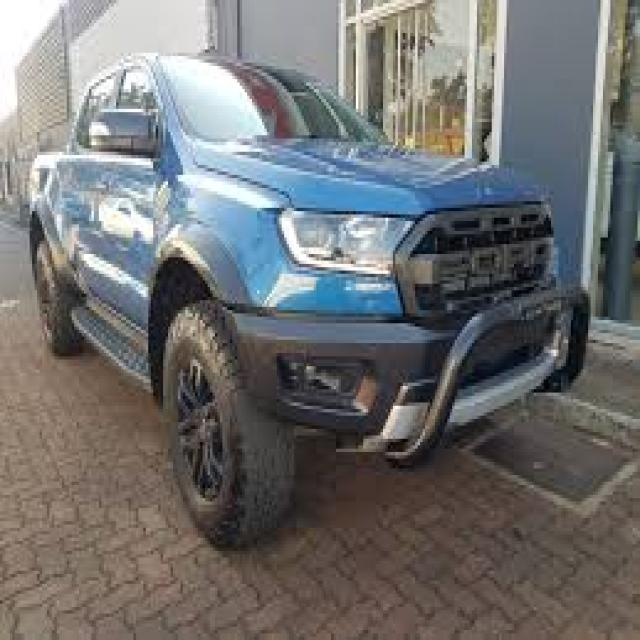Pickup Trucks: (32, 52, 591, 548)
